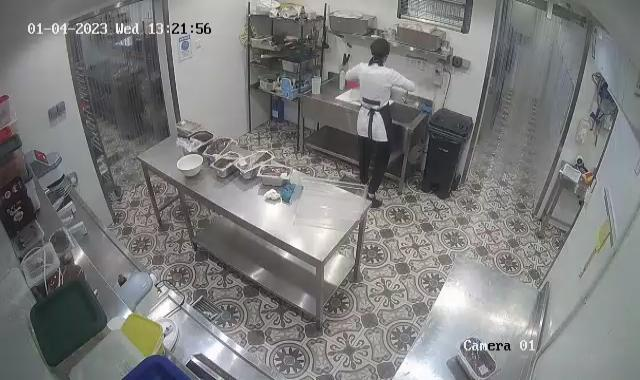no_hairnet: (369, 36, 392, 65)
